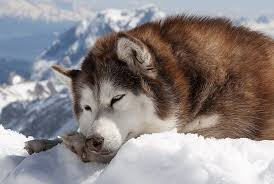husky: (57, 12, 181, 158)
